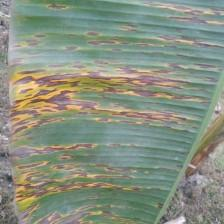sigatoka: (9, 0, 224, 224)
